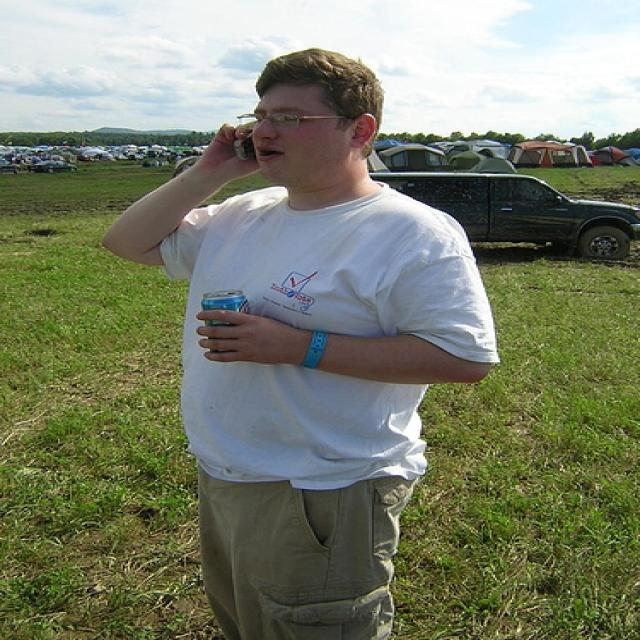Vehicle: (367, 171, 640, 258), (31, 162, 77, 172), (77, 150, 101, 161)
